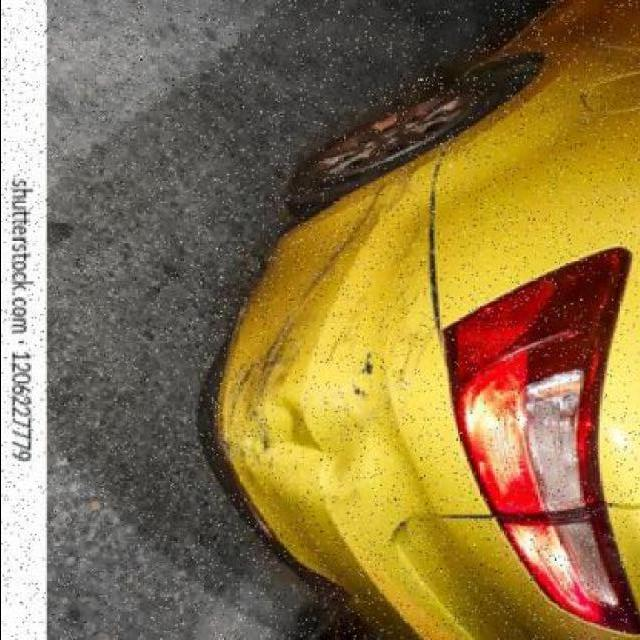rear-bumper-dent: (190, 127, 503, 509)
